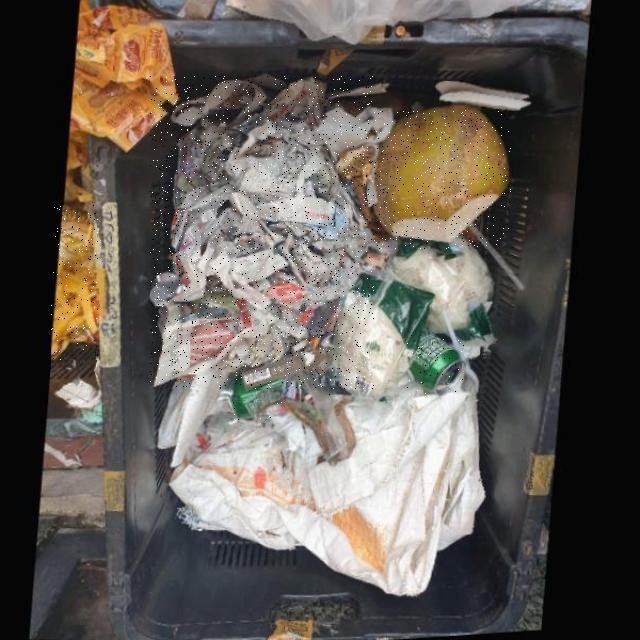biowaste: (373, 110, 511, 249), (51, 205, 98, 360)
metal: (406, 334, 466, 403), (230, 380, 285, 422)
paper: (151, 76, 374, 388), (242, 355, 334, 395)
